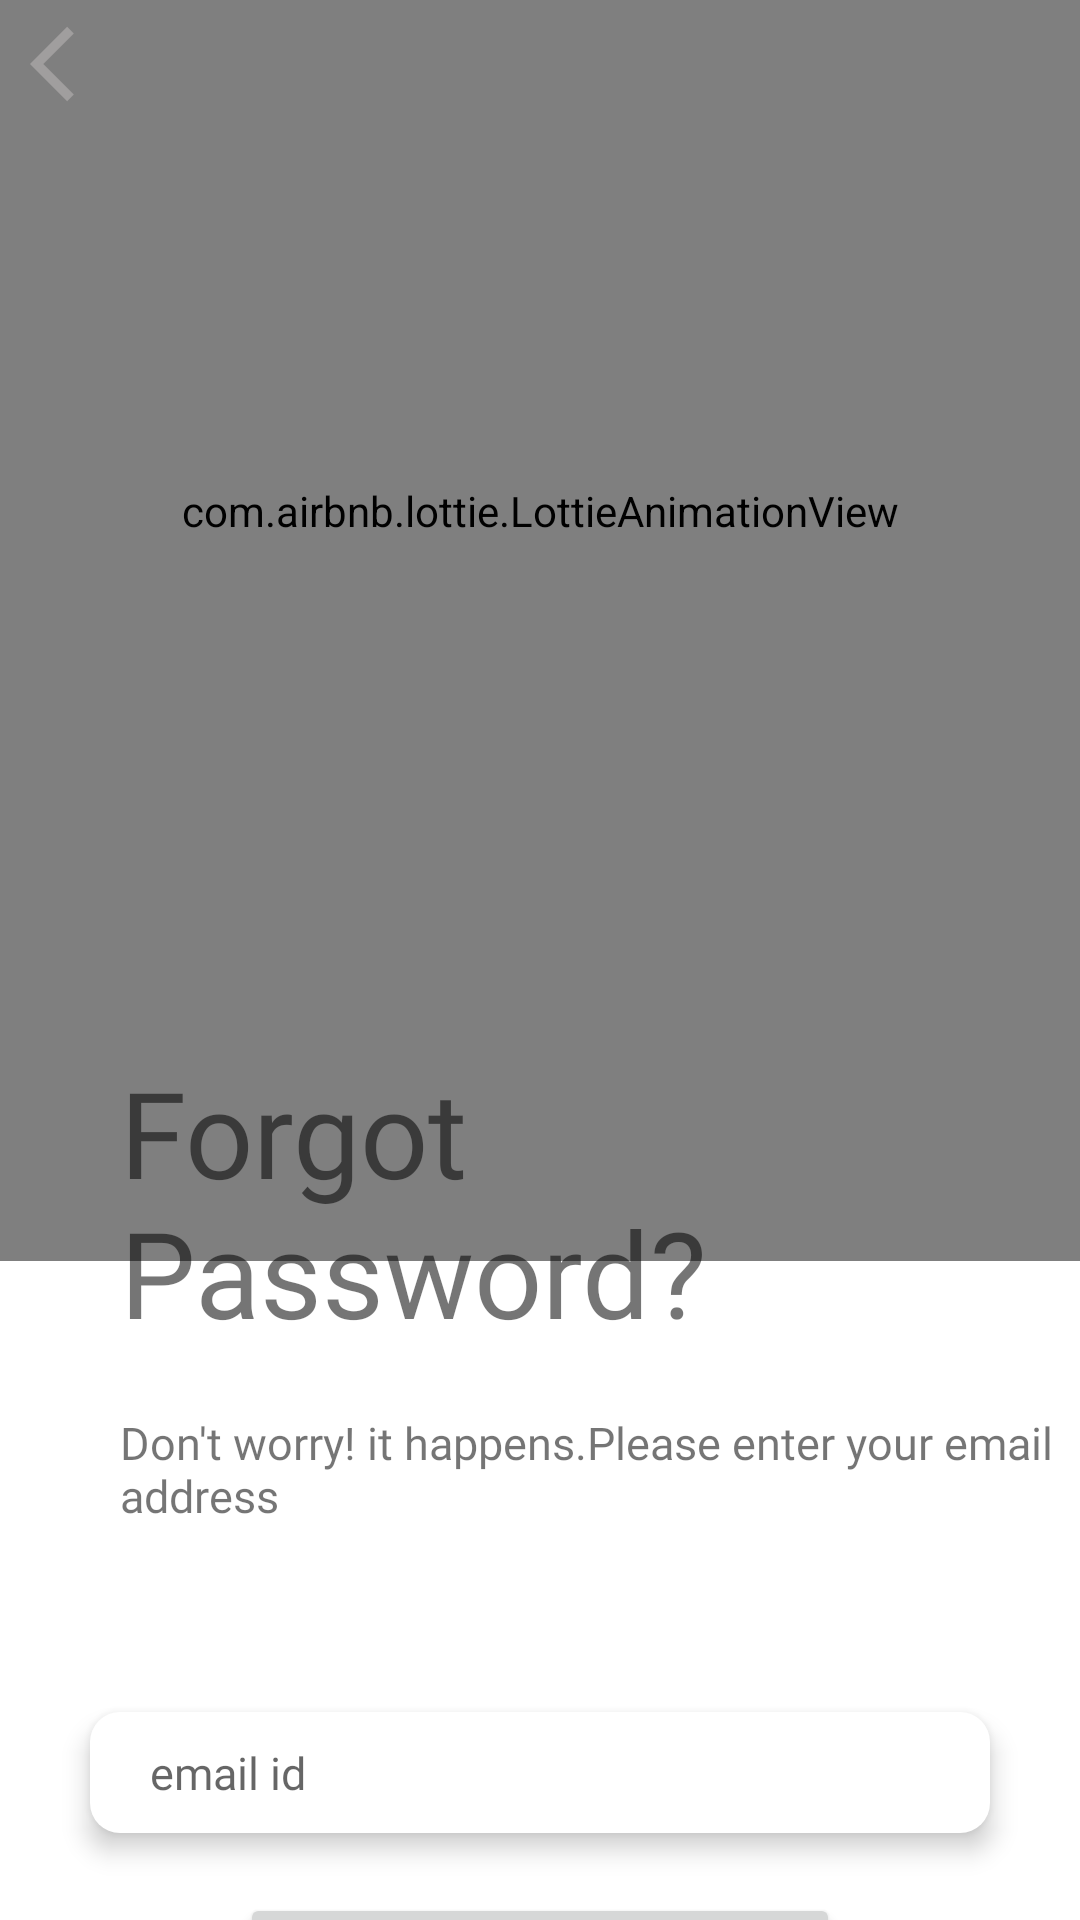

Icon click points for this 1080×1920 phone screenshot, format point (x, y):
back: point (52, 64)
